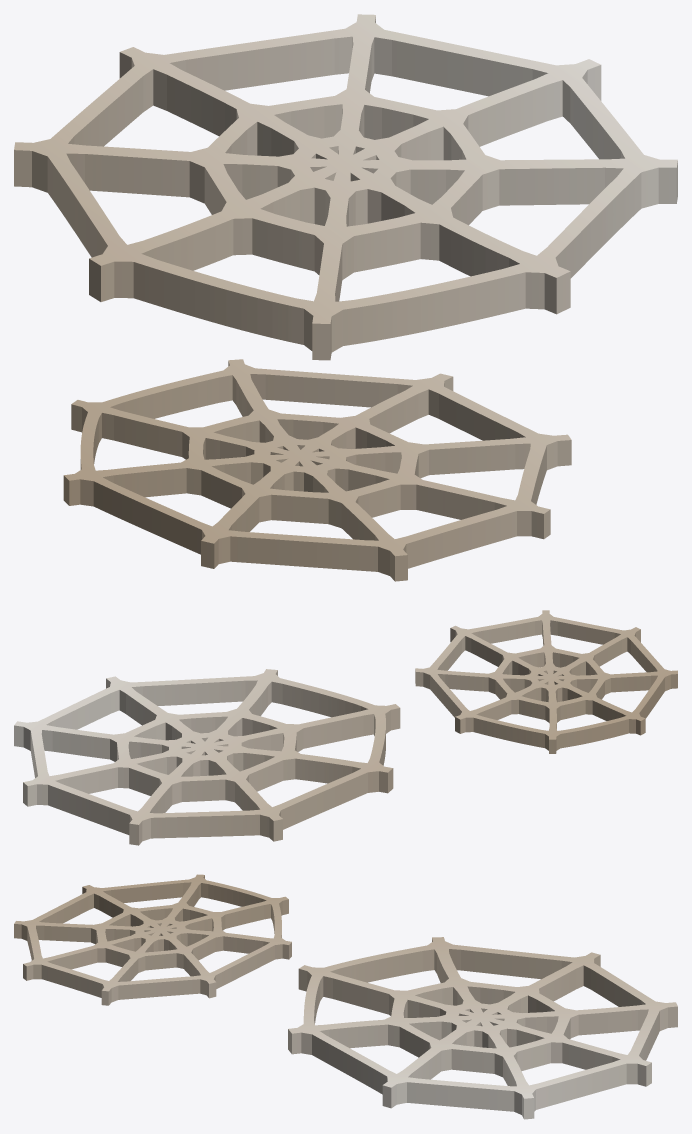
File: dungeonkit_decor_webs.fbx
The picture shows the model from 3 angles, top to bottom: view 1: azimuth 30°, elevation 25°; view 2: azimuth 150°, elevation 25°; view 3: azimuth 270°, elevation 25°; orthographic projection. The views are drawn at different scales.
Visible parts, largest first — view 1: Circle.012; view 2: Circle.012; view 3: Circle.012.
Boxes of the visible parts, left/top/right/bottom form: Circle.012: left=14, top=14, right=677, bottom=581; Circle.012: left=14, top=610, right=677, bottom=845; Circle.012: left=14, top=874, right=677, bottom=1119.
Size of the model in its own units: 207 by 8.79 by 255.
